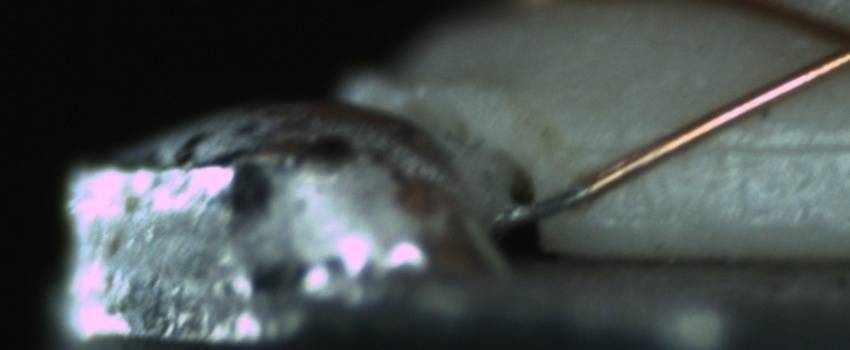CL: (804, 8, 850, 79)
DL: (611, 114, 849, 179)
TS: (504, 180, 591, 226)
TTCW: (502, 162, 626, 227)
